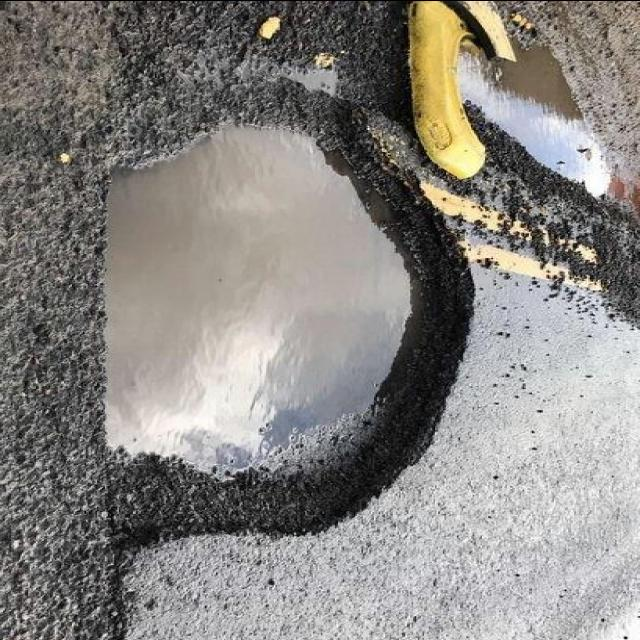lubang: (86, 90, 477, 556), (456, 8, 640, 225), (181, 54, 403, 130)
